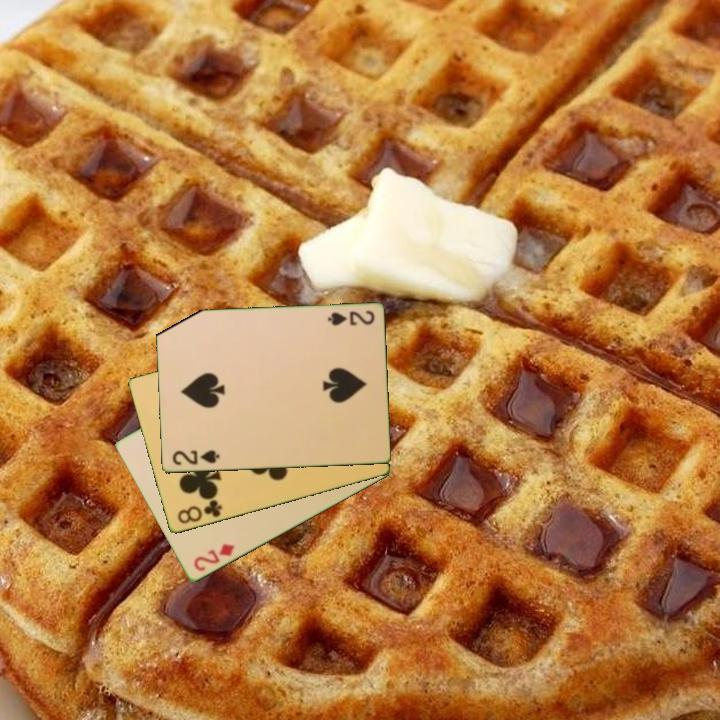2d: (190, 540, 238, 575)
2s: (324, 307, 377, 329), (169, 447, 222, 468)
8c: (174, 496, 225, 527)
